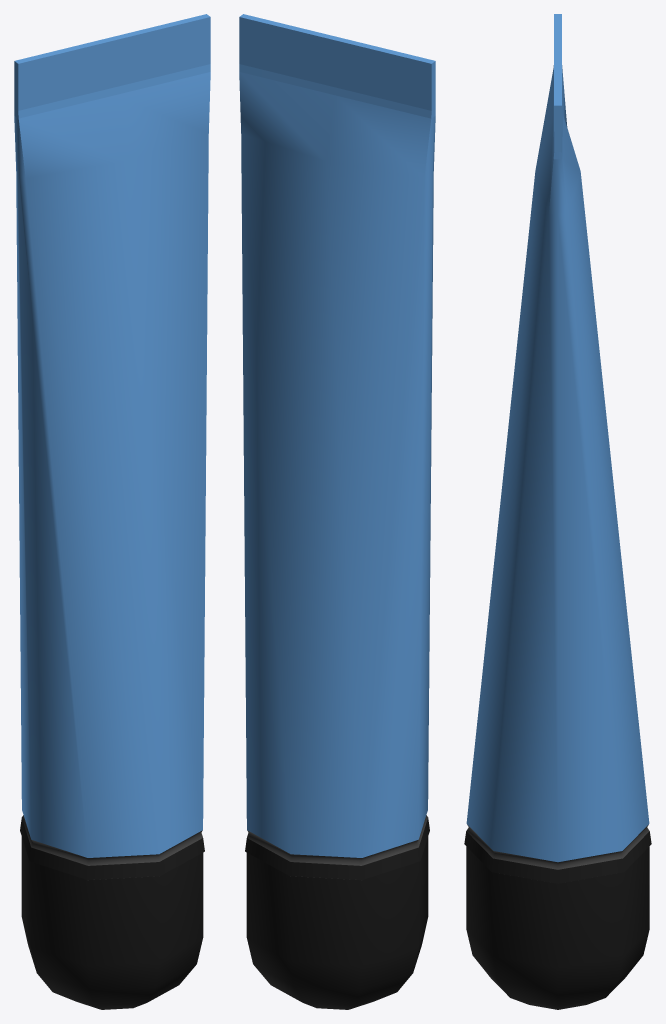
Rendered from cream.fbx.
3 views of the same model, side by side, from view 1: azimuth 30°, elevation 25°; view 2: azimuth 150°, elevation 25°; view 3: azimuth 270°, elevation 25° (orthographic). The views are drawn at different scales.
Visible parts, largest first — view 1: cream; view 2: cream; view 3: cream.
Boxes of the visible parts, left/top/right/bottom form: cream: left=14, top=14, right=210, bottom=1009; cream: left=239, top=14, right=435, bottom=1009; cream: left=464, top=14, right=651, bottom=1009.
Bounding box in the file's own units: 0.3513 × 1.67 × 0.3024.
